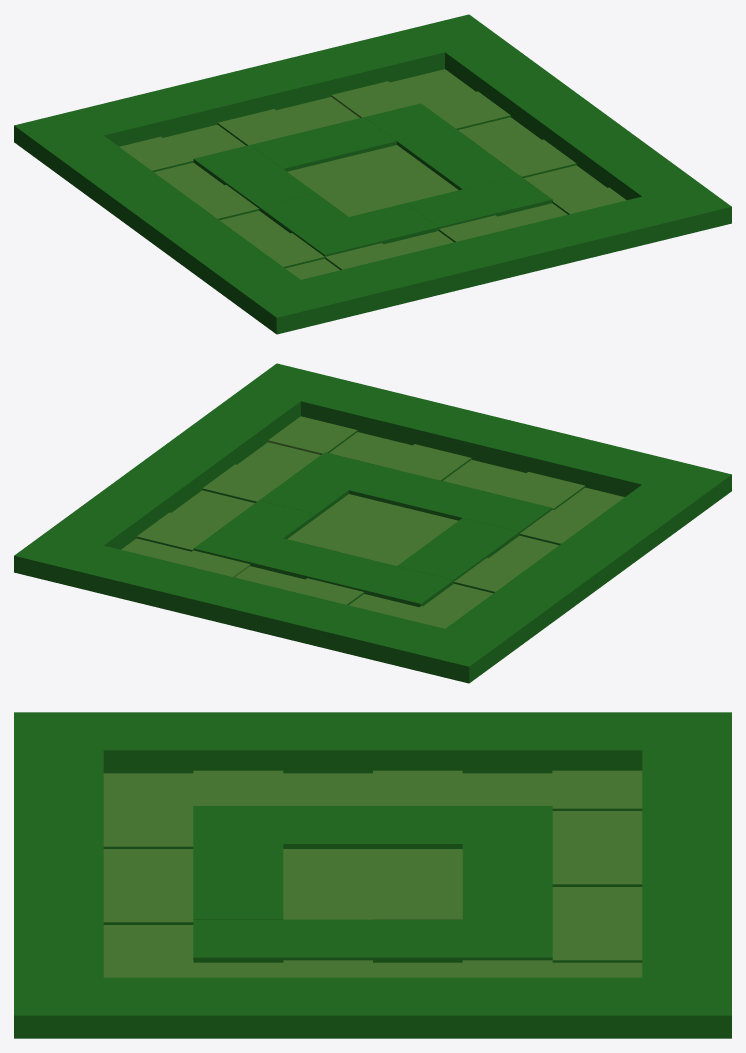
File: bai co.fbx
The picture shows the model from 3 angles, top to bottom: view 1: azimuth 30°, elevation 25°; view 2: azimuth 150°, elevation 25°; view 3: azimuth 270°, elevation 25°; orthographic projection. The views are drawn at different scales.
Visible parts, largest first — view 1: Bai co; view 2: Bai co; view 3: Bai co.
Part boxes in pixels (box(x1,y1,x2,y2)): Bai co: box(14, 14, 731, 334); Bai co: box(14, 363, 731, 683); Bai co: box(14, 712, 731, 1038).
Size of the model in its own units: 403 by 14.21 by 403.
